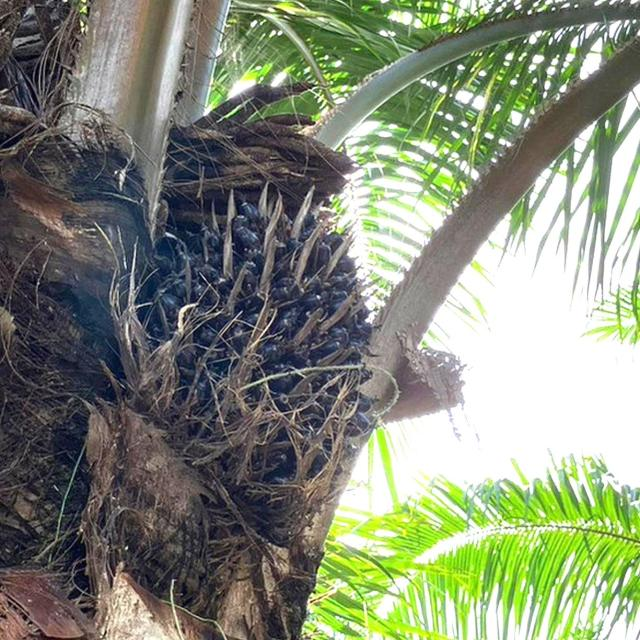unripe: (108, 165, 380, 521)
